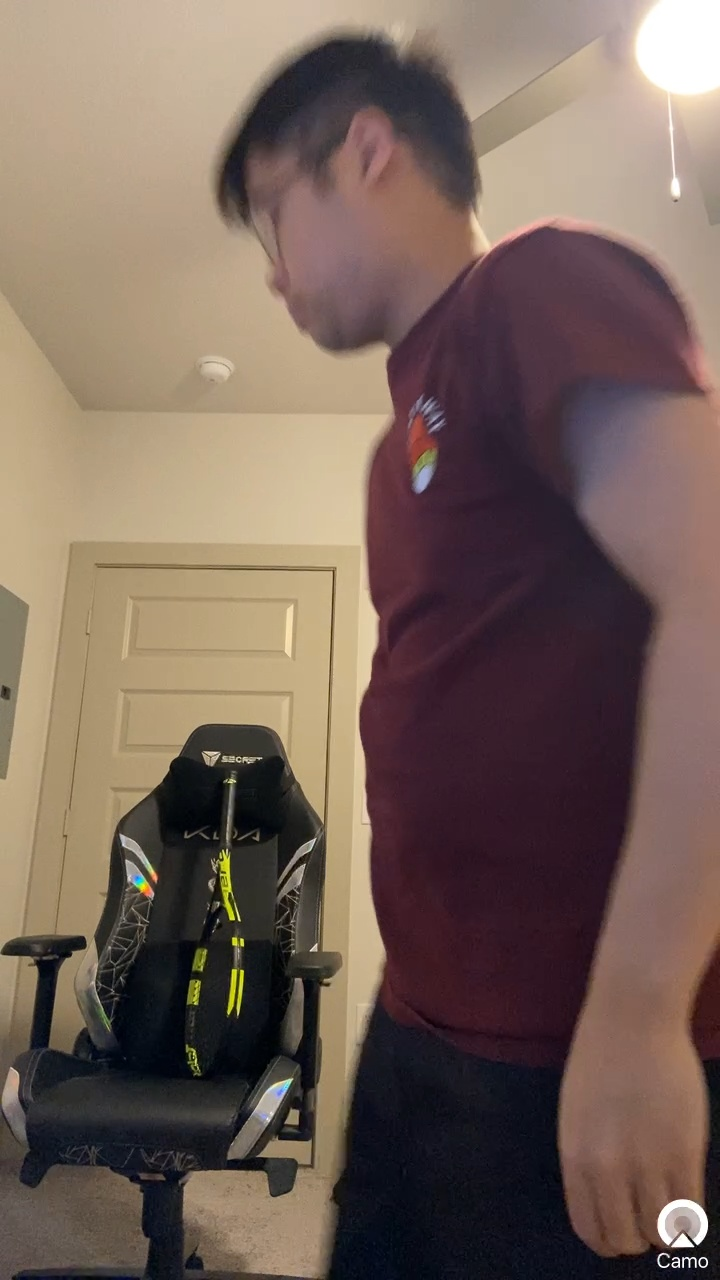Person: (187, 11, 720, 1280)
